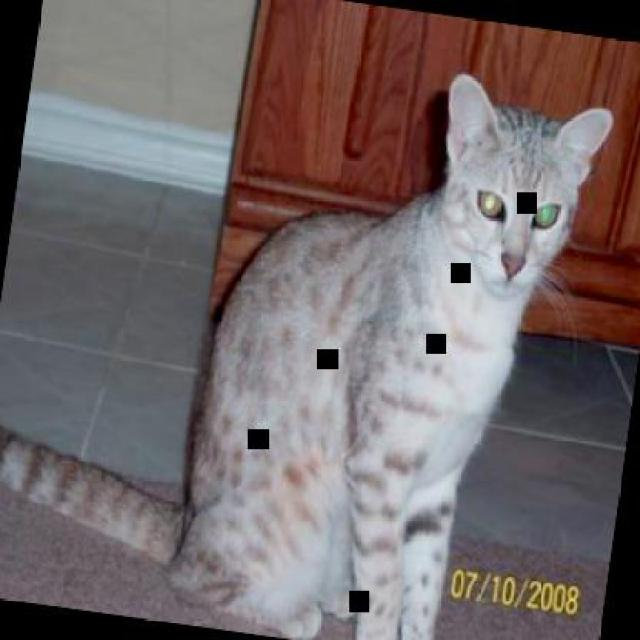cat: (0, 11, 620, 638)
